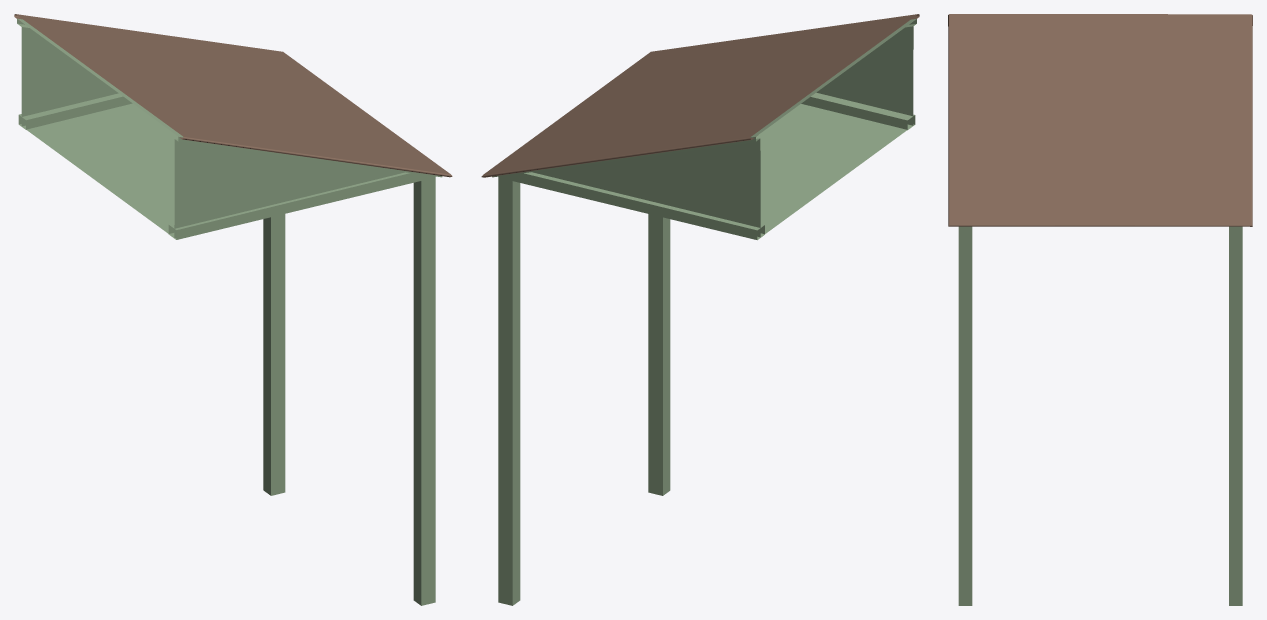
The model's file is side_roof.glb.
The picture shows the model from 3 angles, left to right: view 1: azimuth 30°, elevation 25°; view 2: azimuth 150°, elevation 25°; view 3: azimuth 270°, elevation 25°; orthographic projection. The views are drawn at different scales.
Parts seen in each view (by area): view 1: roof_low, polySurface144, palka2_L, palka2_L1, roof2_L; view 2: roof_low, polySurface144, palka2_L1, palka2_L, roof2_L; view 3: roof_low, palka2_L, palka2_L1.
Boxes of the visible parts, box(x1,y1,x2,y2) form: roof_low: box(14, 14, 452, 177); polySurface144: box(21, 27, 404, 238); palka2_L: box(168, 172, 435, 605); palka2_L1: box(18, 93, 285, 495); roof2_L: box(17, 18, 442, 177); roof_low: box(481, 14, 919, 177); polySurface144: box(532, 26, 913, 237); palka2_L1: box(498, 172, 764, 605); palka2_L: box(648, 92, 915, 495); roof2_L: box(492, 19, 916, 177); roof_low: box(948, 14, 1252, 226); palka2_L: box(958, 226, 972, 605); palka2_L1: box(1229, 226, 1242, 605).
Size of the model in its own units: 17.81 by 33.47 by 19.29.
